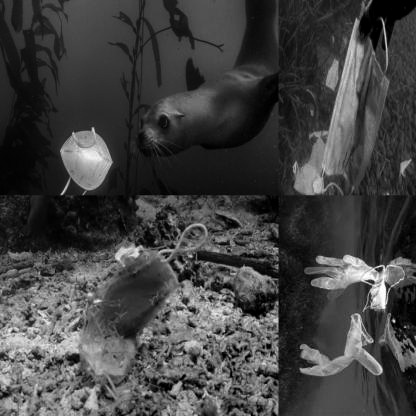Mask: (76, 222, 209, 400), (322, 17, 397, 194), (45, 123, 118, 195), (356, 263, 395, 316), (321, 31, 345, 114)
glove: (297, 312, 380, 382), (303, 251, 376, 303)
